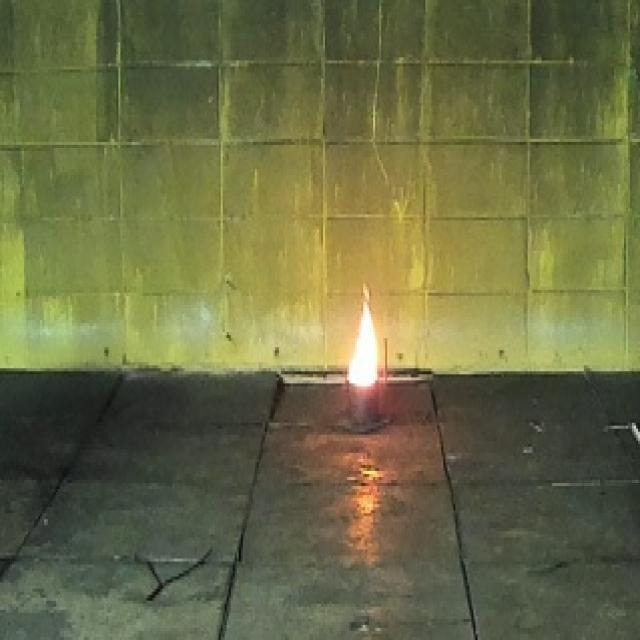Fire: (349, 281, 378, 386)
